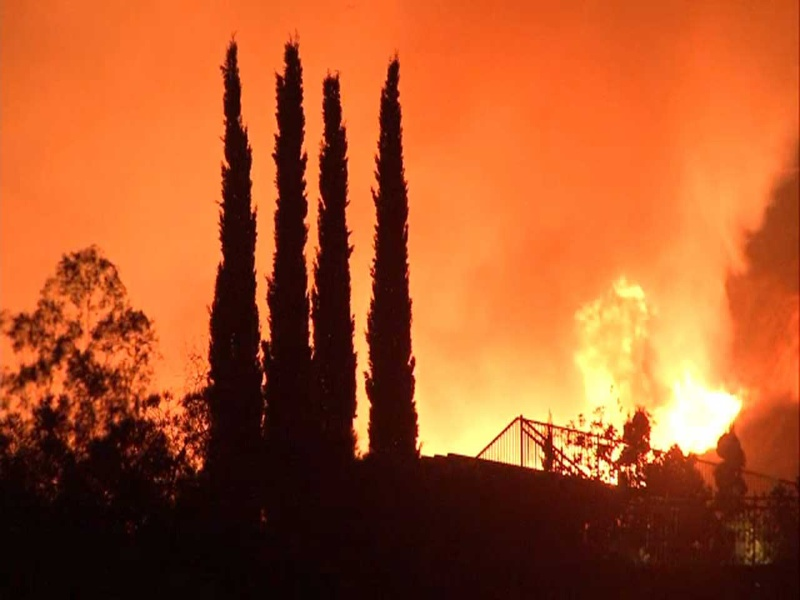fire: (658, 371, 751, 460)
